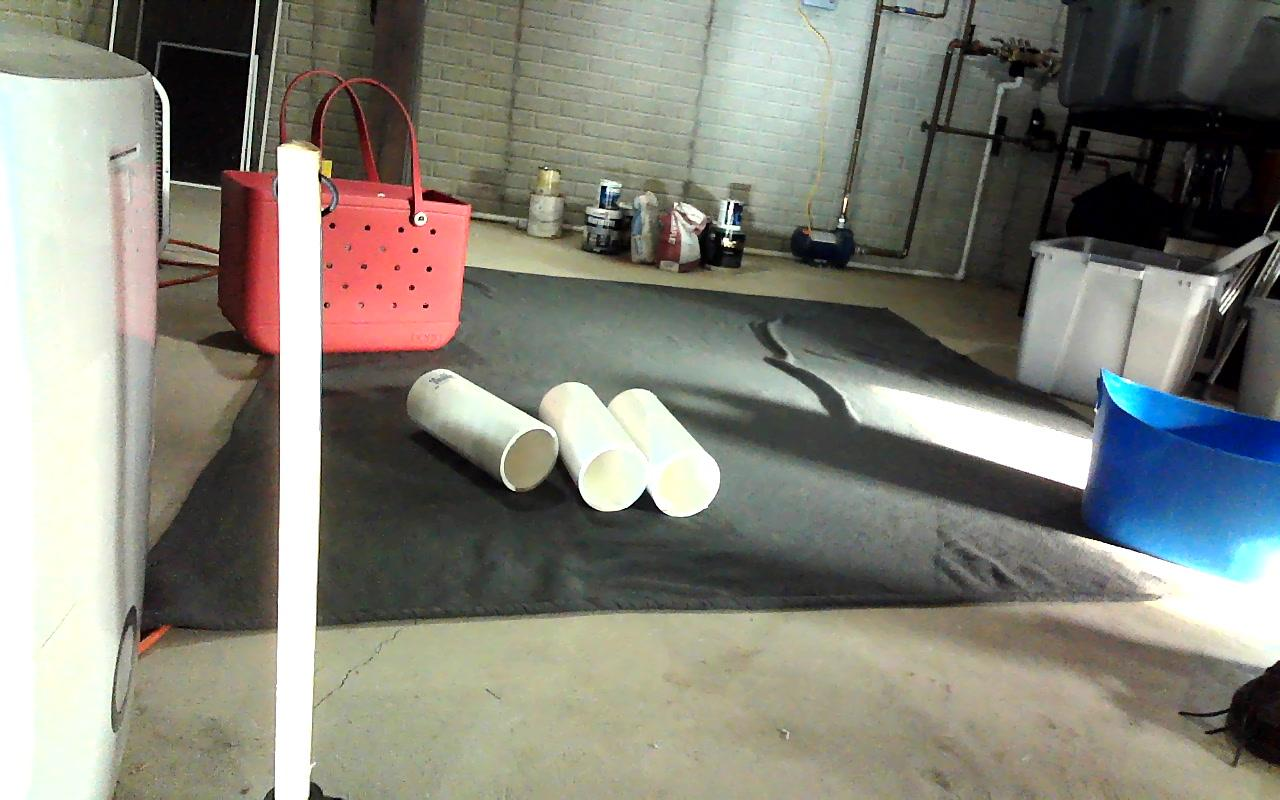coral: (406, 369, 557, 490), (541, 381, 649, 510), (612, 388, 720, 513)
